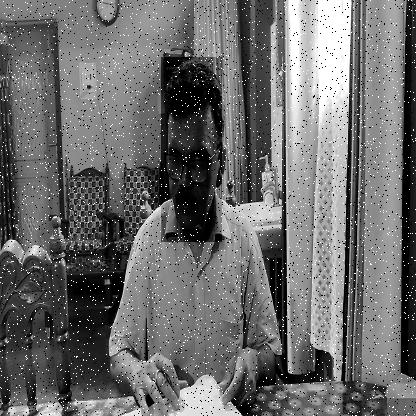Normal: (161, 57, 222, 242)
